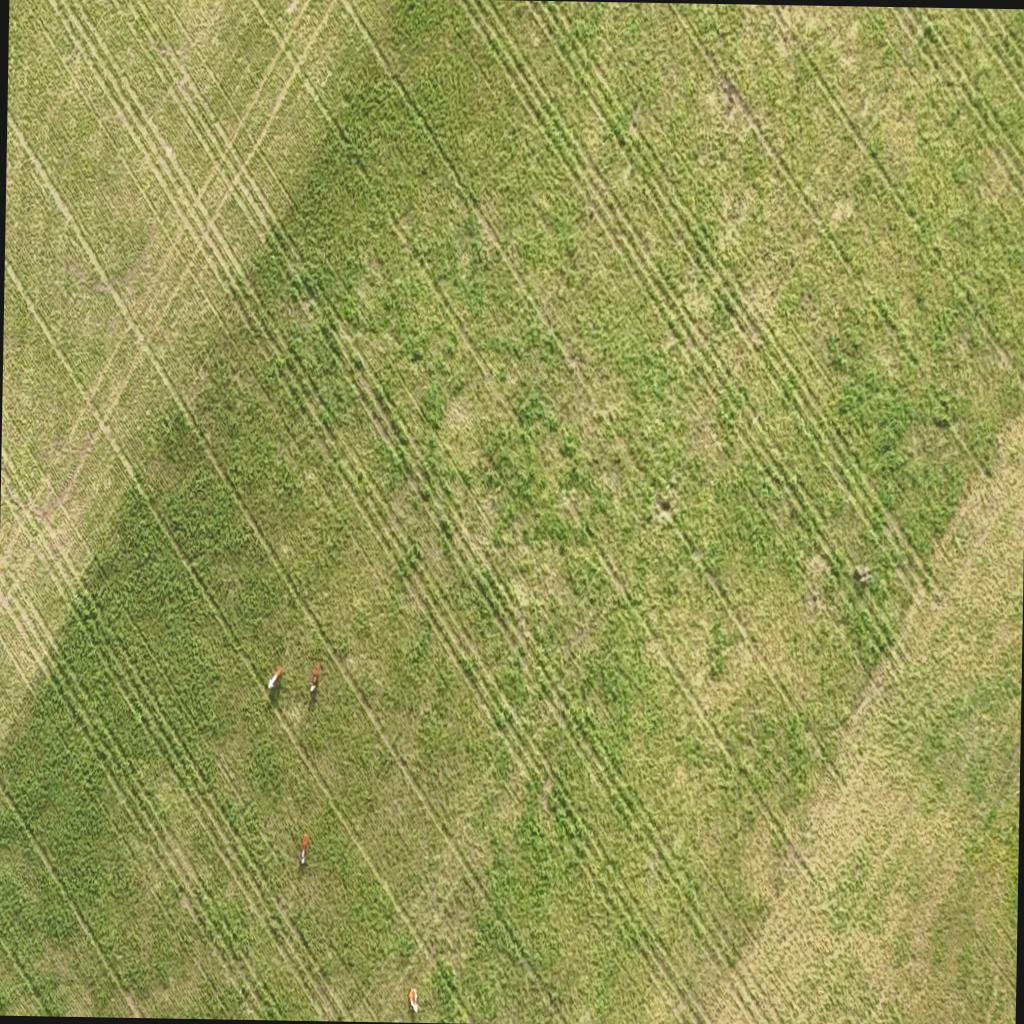cow: (410, 984, 427, 1017), (268, 661, 284, 695), (300, 828, 312, 864), (310, 662, 322, 696)
